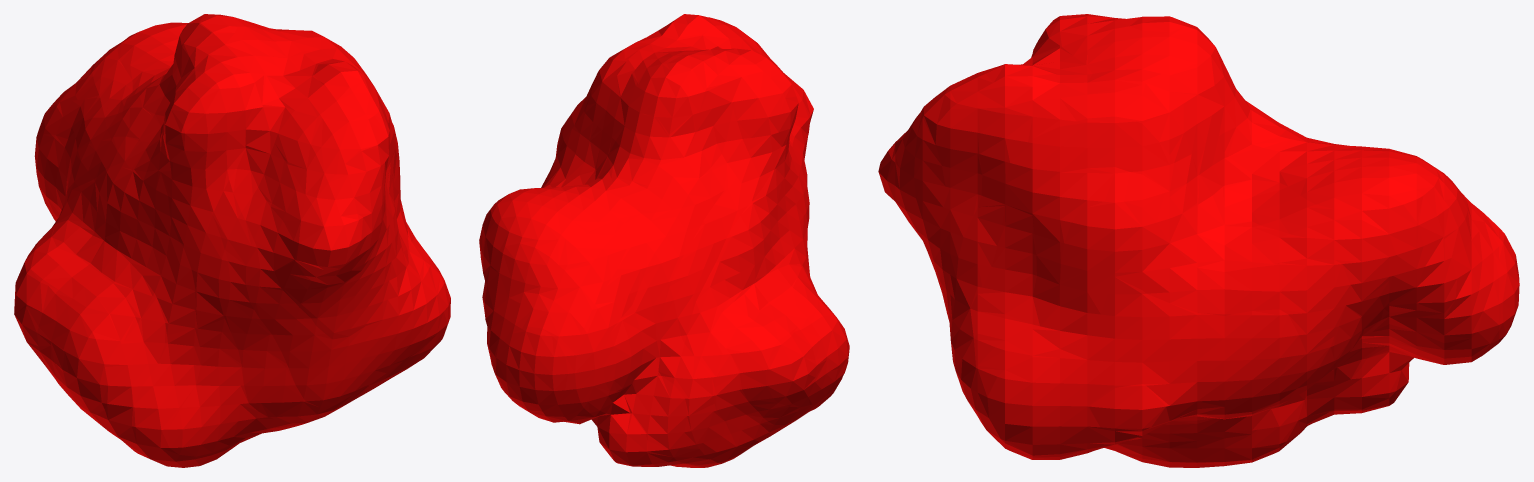
The model's file is rnhA_coarse.dae.
3 renders of one model, left to right at view 1: azimuth 30°, elevation 25°; view 2: azimuth 150°, elevation 25°; view 3: azimuth 270°, elevation 25°, orthographic. The views are drawn at different scales.
Visible parts, largest first — view 1: rnhA; view 2: rnhA; view 3: rnhA.
Part boxes in pixels (x1,y1,x2,y2): rnhA: (14, 14, 450, 467); rnhA: (479, 14, 849, 467); rnhA: (878, 14, 1519, 467).
Bounding box in the file's own units: 37.31 × 43.14 × 54.65.
